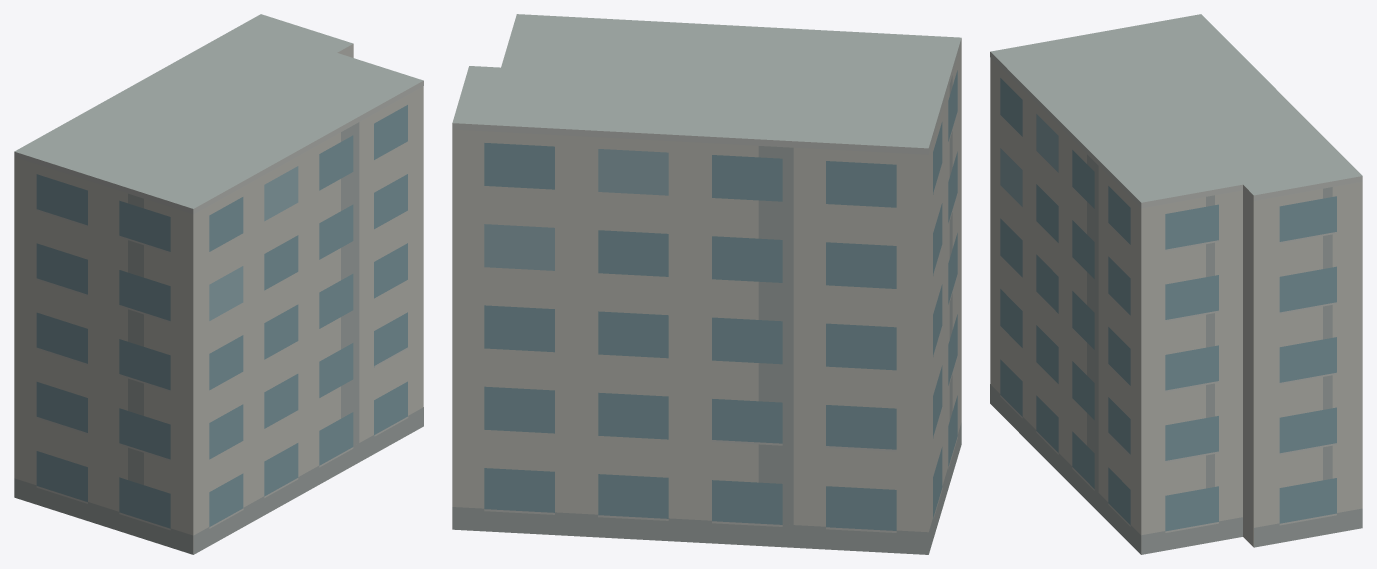
The model's file is residential-a325ab96-a6c6-4ffe-a60a-2725c704ffd4.glb.
3 renders of one model, left to right at view 1: azimuth 30°, elevation 25°; view 2: azimuth 150°, elevation 25°; view 3: azimuth 270°, elevation 25°, orthographic. The views are drawn at different scales.
Parts seen in each view (by area): view 1: residential-a325ab96-a6c6-4ffe-a60a-2725c704ffd4.tmp; view 2: residential-a325ab96-a6c6-4ffe-a60a-2725c704ffd4.tmp; view 3: residential-a325ab96-a6c6-4ffe-a60a-2725c704ffd4.tmp.
Part boxes in pixels (x1,y1,x2,y2): residential-a325ab96-a6c6-4ffe-a60a-2725c704ffd4.tmp: [14, 14, 423, 554]; residential-a325ab96-a6c6-4ffe-a60a-2725c704ffd4.tmp: [452, 14, 961, 554]; residential-a325ab96-a6c6-4ffe-a60a-2725c704ffd4.tmp: [990, 14, 1362, 554].
Bounding box in the file's own units: 17.54 × 15.25 × 14.63.
